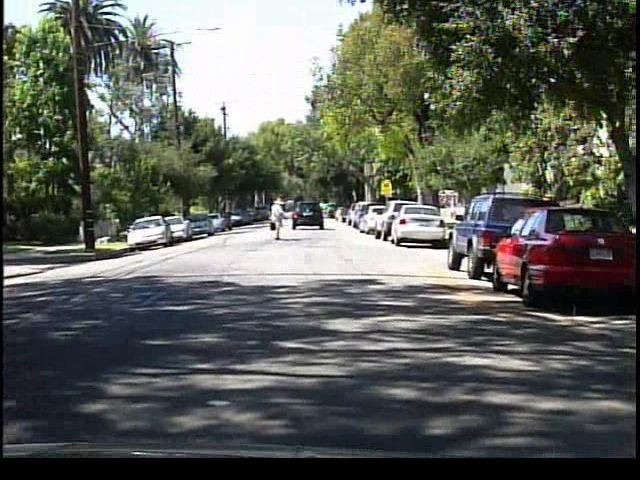person: (265, 186, 291, 234)
